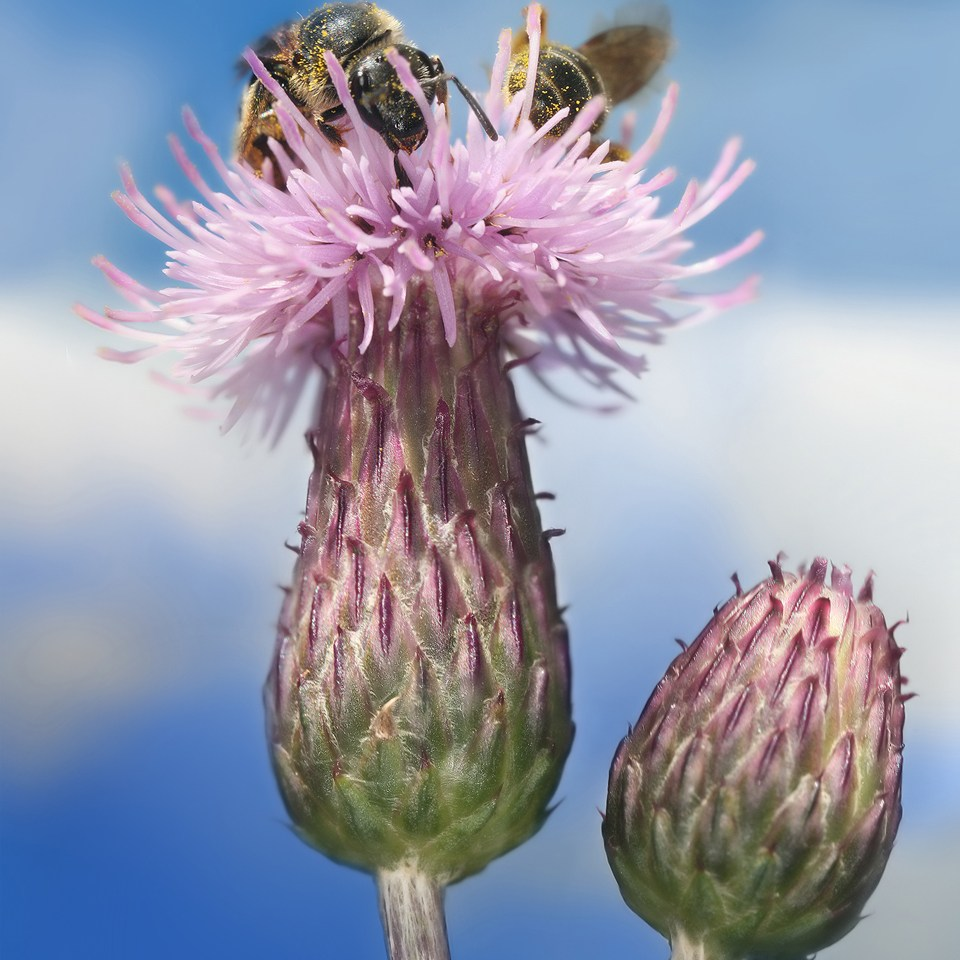thistle: (89, 81, 580, 876), (650, 561, 904, 960)
